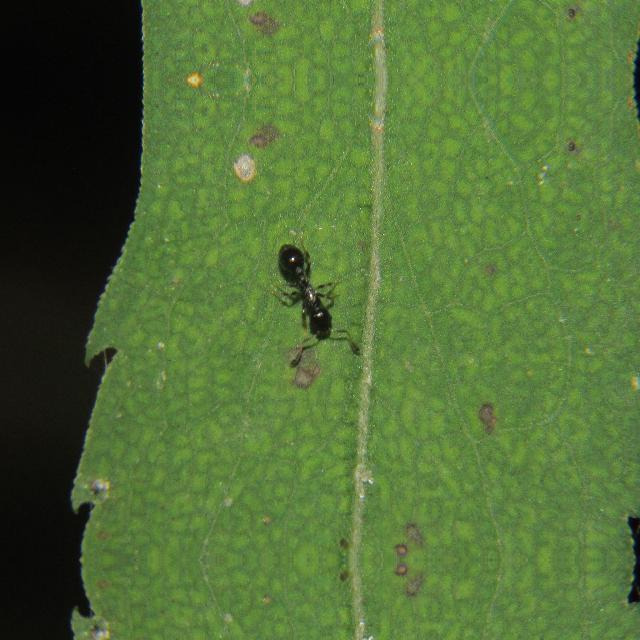Temnothorax: (260, 236, 358, 352)
